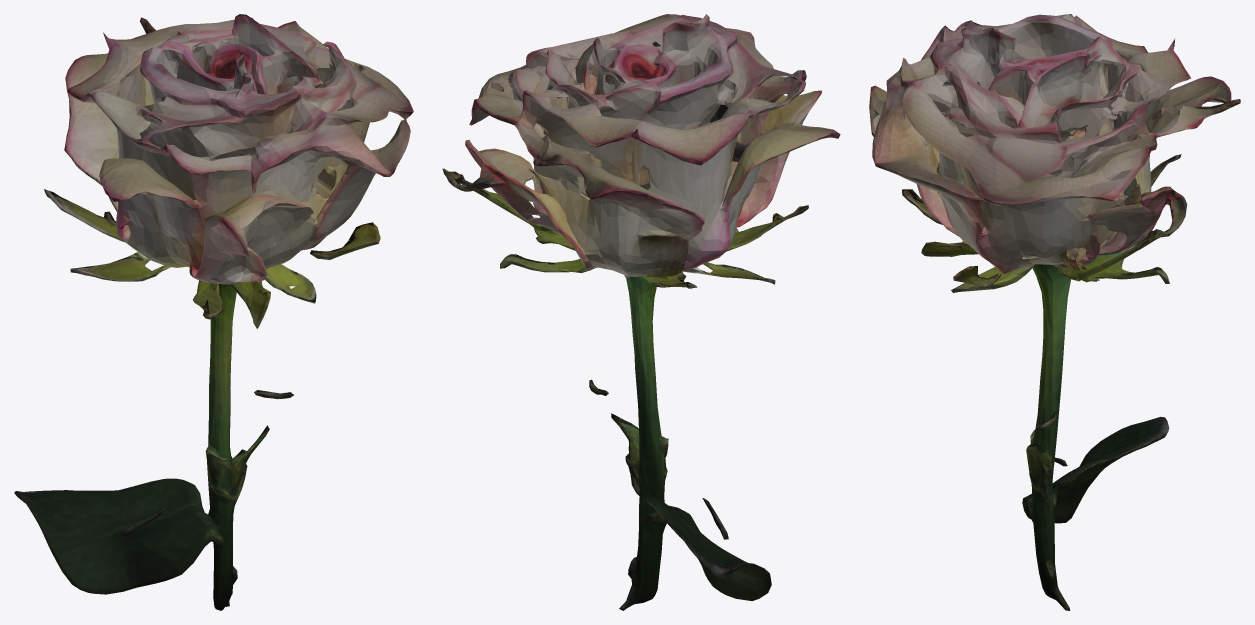
The picture shows the model from 3 angles, left to right: view 1: azimuth 30°, elevation 25°; view 2: azimuth 150°, elevation 25°; view 3: azimuth 270°, elevation 25°; orthographic projection. The views are drawn at different scales.
Parts seen in each view (by area): view 1: world; view 2: world; view 3: world.
Boxes of the visible parts, box(x1,y1,x2,y2) form: world: box(14, 14, 413, 610); world: box(442, 14, 840, 610); world: box(869, 14, 1240, 610).
Size of the model in its own units: 0.5663 by 0.9672 by 0.5713.
Materials: 1 (1 with a texture image).
